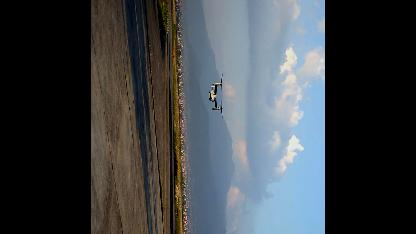Tornado: (209, 72, 224, 118)
